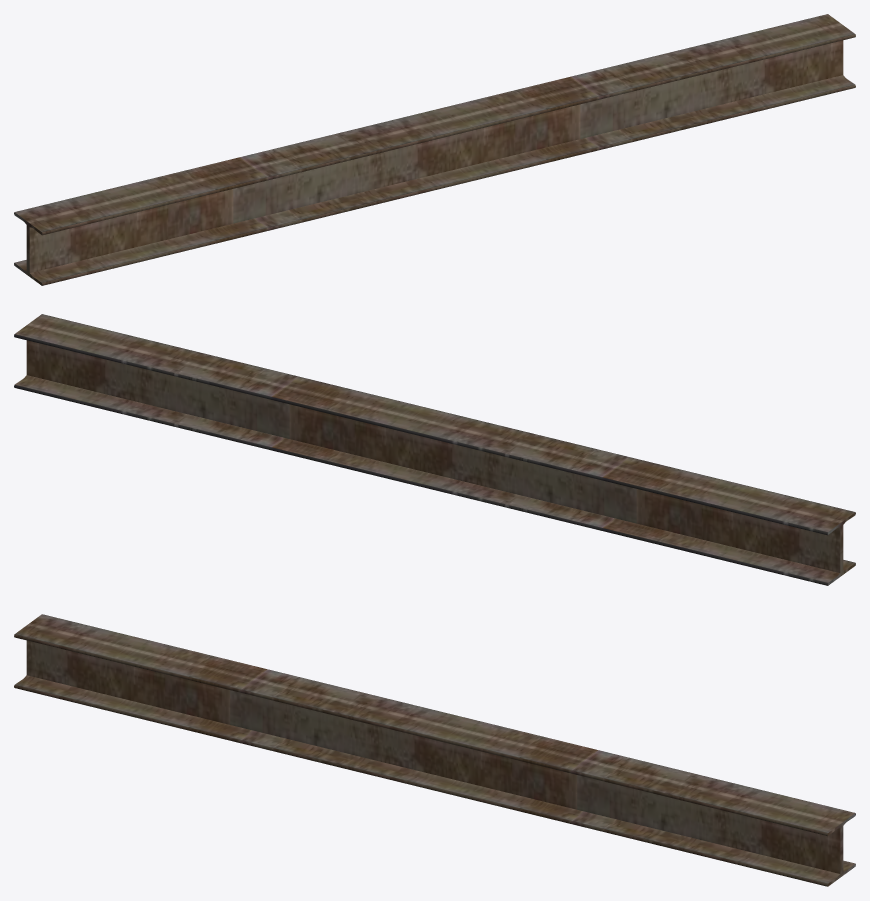
File: ibeam01a.glb
3 views of the same model, one above another, from view 1: azimuth 30°, elevation 25°; view 2: azimuth 150°, elevation 25°; view 3: azimuth 330°, elevation 25° (orthographic).
Parts seen in each view (by area): view 1: 0_i-beam01; view 2: 0_i-beam01; view 3: 0_i-beam01.
Boxes of the visible parts, x1,y1,x2,y2 form: 0_i-beam01: [14, 14, 855, 285]; 0_i-beam01: [14, 314, 855, 585]; 0_i-beam01: [14, 614, 855, 886].
Bounding box in the file's own units: 5.02 × 0.3185 × 0.3042.
Materials: 1 (1 with a texture image).
